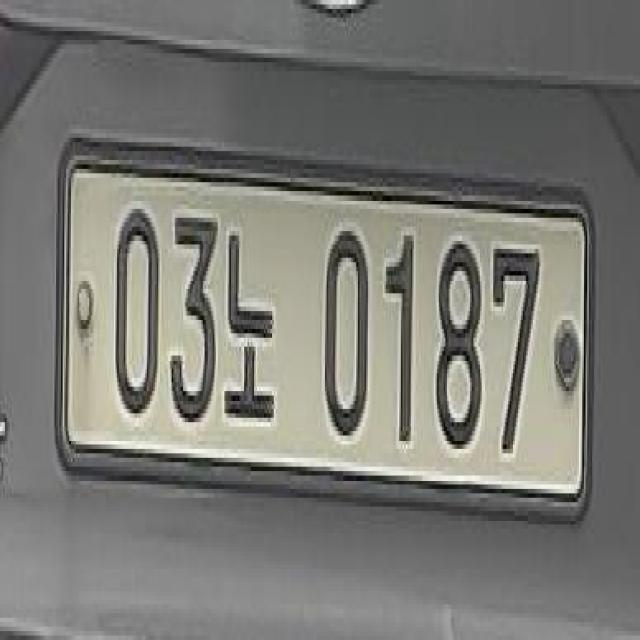illegal_plate: (60, 138, 598, 534)
